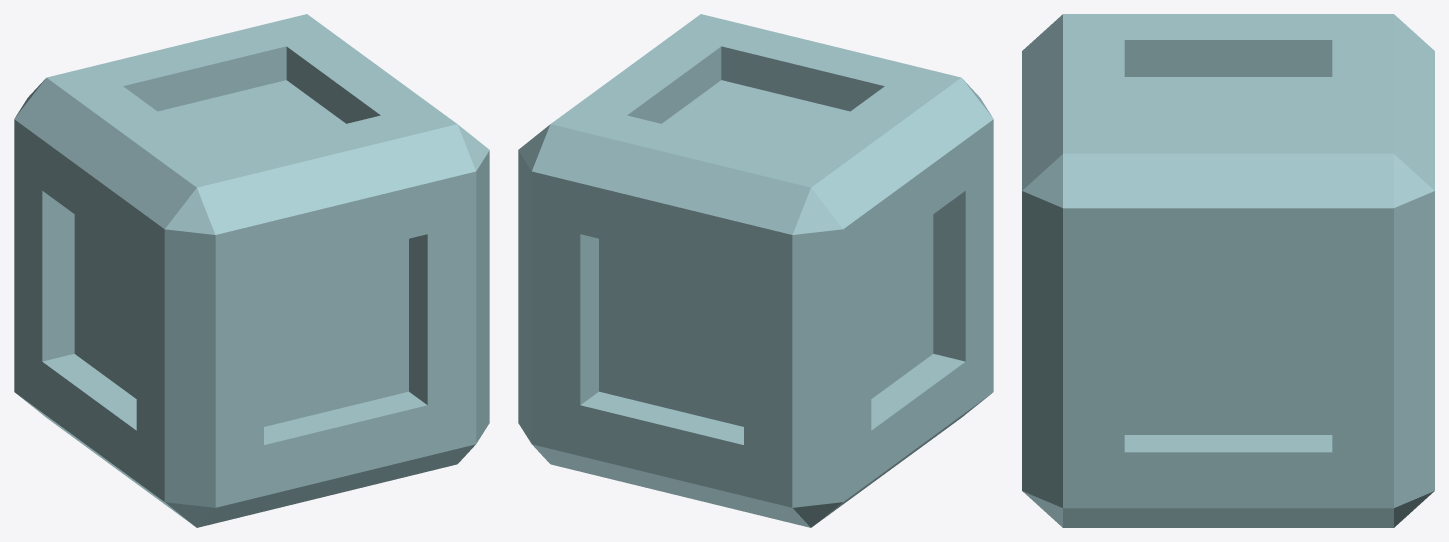
The model's file is stone_block.fbx.
3 renders of one model, left to right at view 1: azimuth 30°, elevation 25°; view 2: azimuth 150°, elevation 25°; view 3: azimuth 270°, elevation 25°, orthographic. The views are drawn at different scales.
Parts seen in each view (by area): view 1: stone_block; view 2: stone_block; view 3: stone_block.
Part boxes in pixels (x1,y1,x2,y2): stone_block: (14,14,489,527); stone_block: (518,14,993,527); stone_block: (1022,14,1434,527).
Bounding box in the file's own units: 2.6 × 2.6 × 2.6.
